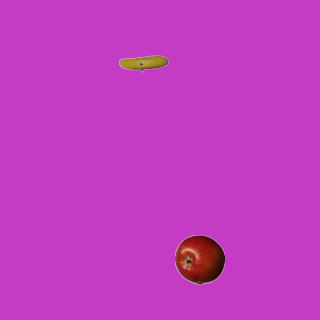Apple Braeburn: (174, 234, 224, 284)
Banana: (118, 38, 168, 88)
